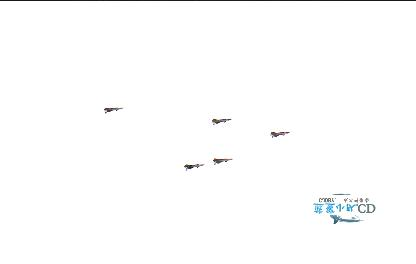F4: (210, 120, 232, 126), (183, 165, 205, 171), (268, 133, 289, 139), (103, 108, 123, 114), (212, 159, 232, 165)
